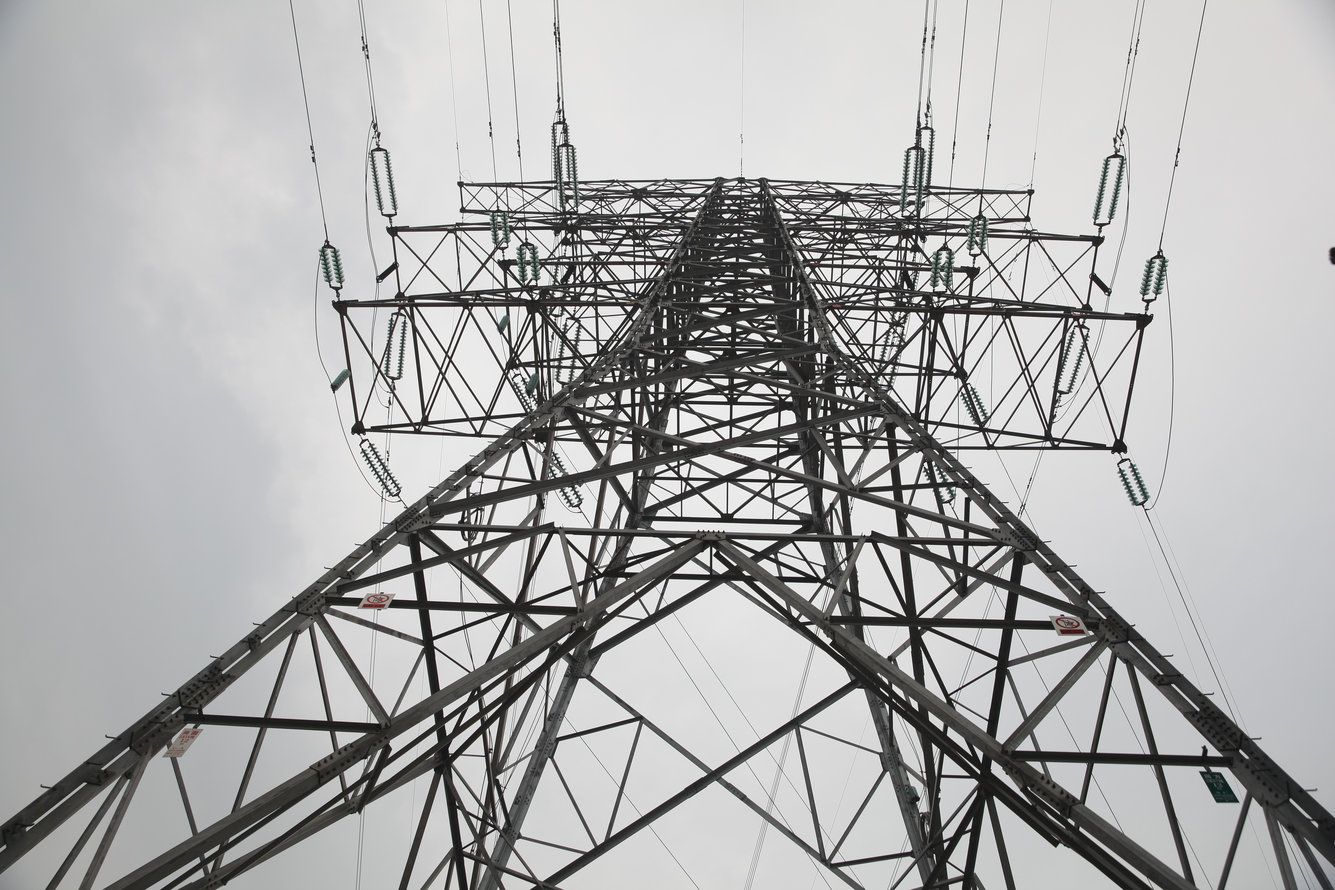insulator: (870, 295, 921, 403), (896, 120, 943, 203), (353, 432, 403, 508), (543, 114, 582, 211), (531, 442, 583, 513), (1091, 142, 1130, 234), (1054, 323, 1100, 400), (362, 139, 404, 222), (383, 311, 418, 383), (920, 450, 958, 510), (551, 317, 584, 386), (1116, 450, 1154, 509), (1138, 250, 1175, 305), (956, 383, 992, 433), (317, 239, 348, 292), (930, 237, 957, 297), (481, 210, 512, 254), (515, 238, 540, 292), (966, 211, 994, 257), (511, 366, 534, 416)
